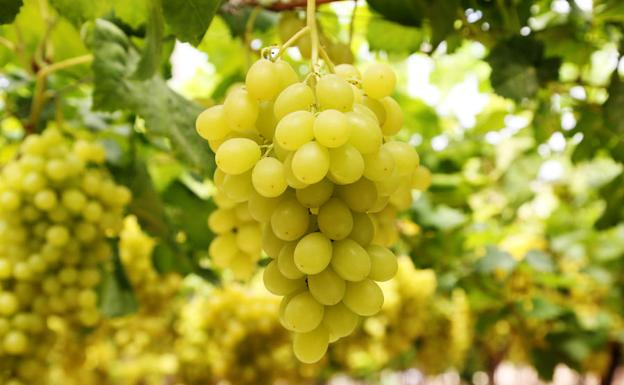Green grapes: (185, 44, 431, 354)
